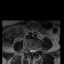CCS_normal: (31, 47, 33, 55)
LFS_normal: (35, 46, 37, 53)
LLS_normal: (33, 48, 35, 54)
RFS_normal: (27, 46, 29, 53)
RLS_normal: (29, 48, 31, 54)
